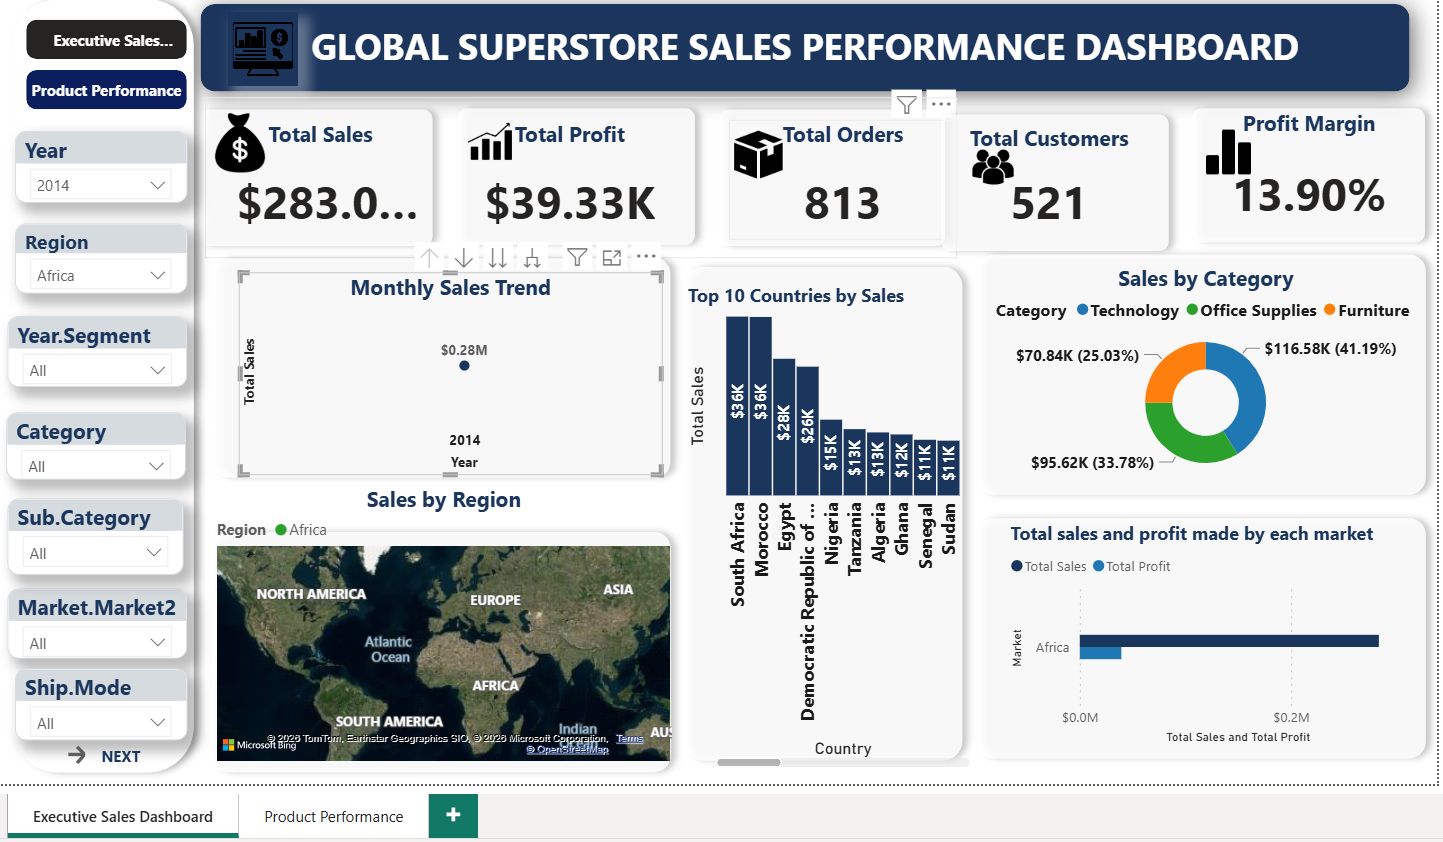

What the dashboard file says about the page in this screenshot:
{"tool":"powerbi","page":{"name":"Executive Sales Dashboard","canvas":[1280,720],"ordinal":0},"visuals":[{"type":"shape","box":[153.3,0,1126.7,127.8],"z":0},{"type":"shape","box":[0,10,183.3,710],"z":0,"group":"g4"},{"type":"group","id":"g1","title":"Group 3","box":[166.7,106.7,462.2,144.4],"z":1000},{"type":"shape","box":[166.7,107.8,228.9,143.3],"z":1000,"group":"g3"},{"type":"slicer","title":"Year","fields":{"Values":["global superstore1.Order.Date.Variation.Date Hierarchy.Year"]},"box":[13.3,137.6,153.3,64.3],"z":1000,"group":"g4"},{"type":"shape","box":[395.6,106.7,233.3,143.3],"z":2000,"group":"g1"},{"type":"group","id":"g2","title":"Group 4","box":[182,107.8,670.2,143.3],"z":2000},{"type":"slicer","title":"Region","fields":{"Values":["global superstore1.Region"]},"box":[13.3,220,153.3,62.1],"z":2000,"group":"g4"},{"type":"shape","box":[628.9,107.8,223.3,143.3],"z":3000,"group":"g2"},{"type":"shape","box":[826.7,112.5,224.4,143.3],"z":3000},{"type":"slicer","title":"Market.Market2","fields":{"Values":["global superstore1.Market","global superstore1.Market2"]},"box":[6.7,545,160,62.1],"z":3000,"group":"g4"},{"type":"shape","box":[1051.1,106.7,228.9,141.1],"z":4000},{"type":"slicer","title":"Category","fields":{"Values":["global superstore1.Category"]},"box":[5.6,388.1,160,59.8],"z":4000,"group":"g4"},{"type":"lineChart","title":"Monthly Sales Trend","fields":{"Category":["global superstore1.Order.Date.Variation.Date Hierarchy.Year","global superstore1.Order.Date.Variation.Date Hierarchy.Quarter","global superstore1.Order.Date.Variation.Date Hierarchy.Month","global superstore1.Order.Date.Variation.Date Hierarchy.Day"],"Y":["global superstore1.Total Sales"]},"box":[212.6,263.8,377.4,181.4],"z":5000},{"type":"slicer","title":"Sub.Category","fields":{"Values":["global superstore1.Sub.Category"]},"box":[6.7,464.9,156.7,67.7],"z":5000,"group":"g4"},{"type":"shape","box":[858.9,236.7,421.1,235.6],"z":6000,"group":"g6"},{"type":"slicer","title":"Year.Segment","fields":{"Values":["global superstore1.Order.Date.Variation.Date Hierarchy.Year","global superstore1.Segment"]},"box":[6.7,302.4,160,63.2],"z":6000,"group":"g4"},{"type":"cardVisual","title":"Total Sales","fields":{"Data":["global superstore1.Total Sales"]},"box":[183.4,127.8,203.3,106.7],"z":7000,"group":"g3"},{"type":"shape","box":[179.2,240.4,428.6,217.1],"z":7000},{"type":"cardVisual","title":"Total Profit","fields":{"Data":["global superstore1.Total Profit"]},"box":[395.6,127.8,222.2,106.7],"z":8000,"group":"g1"},{"type":"shape","box":[858.9,472.2,421.1,235.6],"z":8000,"group":"g5"},{"type":"slicer","title":"Ship.Mode","fields":{"Values":["global superstore1.Ship.Mode"]},"box":[13.3,616.2,153.3,64.3],"z":8000,"group":"g4"},{"type":"cardVisual","title":"Total Orders","fields":{"Data":["global superstore1.Total Orders"]},"box":[648.9,127.8,203.3,106.7],"z":9000,"group":"g2"},{"type":"shape","box":[176.7,484.4,431.1,235.6],"z":9000},{"type":"cardVisual","title":"Total Customers","fields":{"Data":["global superstore1.Total Customers"]},"box":[826.7,131.4,214.4,108.9],"z":10000},{"type":"shape","box":[597.8,247.8,270,461.1],"z":11000,"group":"g7"},{"type":"group","id":"g3","title":"Group 2","box":[166.7,107.8,228.9,143.3],"z":11001,"group":"g1"},{"type":"image","box":[1066.7,128.9,55.6,55.6],"z":12000},{"type":"cardVisual","title":"Profit Margin","fields":{"Data":["global superstore1.Profit Margin1"]},"box":[1066.7,117.8,198.9,122.2],"z":13000},{"type":"donutChart","title":"Sales by Category","fields":{"Category":["global superstore1.Category"],"Y":["global superstore1.Total Sales"]},"box":[878.9,255.6,388.9,197.8],"z":14000,"group":"g6"},{"type":"filledMap","title":"Sales by Region","fields":{"Series":["global superstore1.Region"]},"box":[187.8,453.3,414.4,251.1],"z":15000},{"type":"image","box":[411.5,107.1,48.9,81.1],"z":15004,"group":"g1"},{"type":"image","box":[182,115.8,62.2,65.6],"z":15004,"group":"g2"},{"type":"columnChart","title":"Top 10 Countries by Sales","fields":{"Y":["global superstore1.Total Sales"],"Category":["global superstore1.Country"]},"box":[607.8,272.2,261.1,436.7],"z":16000,"group":"g7"},{"type":"clusteredBarChart","title":"Total sales and profit made by each market","fields":{"Category":["global superstore1.Market"],"Y":["global superstore1.Total Sales","global superstore1.Total Profit"]},"box":[894.5,484.4,371.1,204.4],"z":17000,"group":"g5"},{"type":"group","id":"g4","title":"Group 1","box":[0,10,183.3,710],"z":18000},{"type":"actionButton","box":[53.3,678.9,77.8,28.9],"z":19000},{"type":"pageNavigator","box":[23.3,38.9,143.3,80],"z":20000},{"type":"image","box":[648.9,130,53.3,57.8],"z":21000},{"type":"image","box":[856.7,146.7,54.4,46.7],"z":22000},{"type":"image","box":[202.2,32.2,63.3,65.6],"z":23000},{"type":"group","id":"g5","title":"Group 5","box":[858.9,472.2,421.1,235.6],"z":23001},{"type":"group","id":"g6","title":"Group 6","box":[858.9,236.7,421.1,235.6],"z":23002},{"type":"group","id":"g7","title":"Group 7","box":[597.8,247.8,271.1,461.1],"z":23003}]}

Visuals, with their boxes on the page's 1280x720 design canvas (x1, y1, x2, y2). These are canvas units, not pixel positions in the 1443x842 screenshot, which may show the page scaled, cropped or inside an application window:
shape: <bbox>153, 0, 1280, 128</bbox>
shape: <bbox>0, 10, 183, 720</bbox>
"Group 3" group: <bbox>167, 107, 629, 251</bbox>
shape: <bbox>167, 108, 396, 251</bbox>
"Year" slicer: <bbox>13, 138, 167, 202</bbox>
shape: <bbox>396, 107, 629, 250</bbox>
"Group 4" group: <bbox>182, 108, 852, 251</bbox>
"Region" slicer: <bbox>13, 220, 167, 282</bbox>
shape: <bbox>629, 108, 852, 251</bbox>
shape: <bbox>827, 112, 1051, 256</bbox>
"Market.Market2" slicer: <bbox>7, 545, 167, 607</bbox>
shape: <bbox>1051, 107, 1280, 248</bbox>
"Category" slicer: <bbox>6, 388, 166, 448</bbox>
"Monthly Sales Trend" lineChart: <bbox>213, 264, 590, 445</bbox>
"Sub.Category" slicer: <bbox>7, 465, 163, 533</bbox>
shape: <bbox>859, 237, 1280, 472</bbox>
"Year.Segment" slicer: <bbox>7, 302, 167, 366</bbox>
"Total Sales" cardVisual: <bbox>183, 128, 387, 234</bbox>
shape: <bbox>179, 240, 608, 458</bbox>
"Total Profit" cardVisual: <bbox>396, 128, 618, 234</bbox>
shape: <bbox>859, 472, 1280, 708</bbox>
"Ship.Mode" slicer: <bbox>13, 616, 167, 680</bbox>
"Total Orders" cardVisual: <bbox>649, 128, 852, 234</bbox>
shape: <bbox>177, 484, 608, 720</bbox>
"Total Customers" cardVisual: <bbox>827, 131, 1041, 240</bbox>
shape: <bbox>598, 248, 868, 709</bbox>
"Group 2" group: <bbox>167, 108, 396, 251</bbox>
image: <bbox>1067, 129, 1122, 184</bbox>
"Profit Margin" cardVisual: <bbox>1067, 118, 1266, 240</bbox>
"Sales by Category" donutChart: <bbox>879, 256, 1268, 453</bbox>
"Sales by Region" filledMap: <bbox>188, 453, 602, 704</bbox>
image: <bbox>412, 107, 460, 188</bbox>
image: <bbox>182, 116, 244, 181</bbox>
"Top 10 Countries by Sales" columnChart: <bbox>608, 272, 869, 709</bbox>
"Total sales and profit made by each market" clusteredBarChart: <bbox>894, 484, 1266, 689</bbox>
"Group 1" group: <bbox>0, 10, 183, 720</bbox>
actionButton: <bbox>53, 679, 131, 708</bbox>
pageNavigator: <bbox>23, 39, 167, 119</bbox>
image: <bbox>649, 130, 702, 188</bbox>
image: <bbox>857, 147, 911, 193</bbox>
image: <bbox>202, 32, 266, 98</bbox>
"Group 5" group: <bbox>859, 472, 1280, 708</bbox>
"Group 6" group: <bbox>859, 237, 1280, 472</bbox>
"Group 7" group: <bbox>598, 248, 869, 709</bbox>
